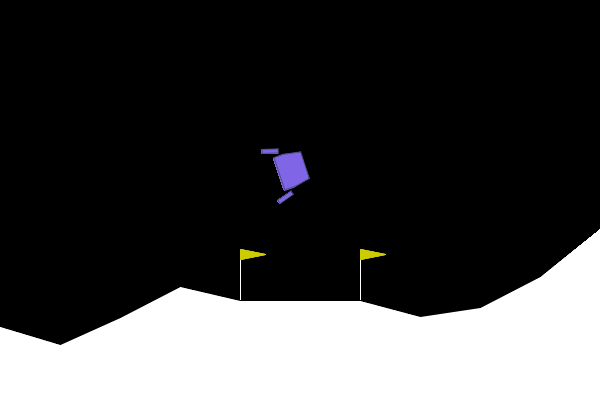lander: (259, 136, 316, 206)
